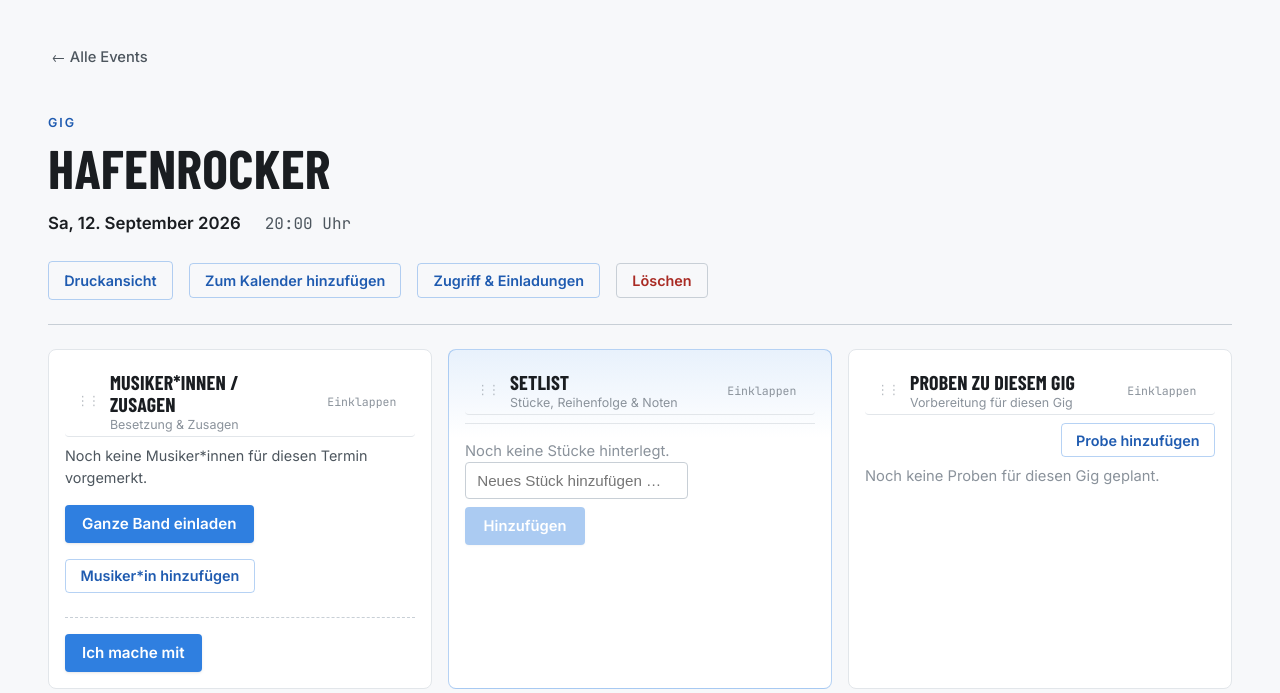
EventDetailComponent › should add a piece via Enter key without submitting the form
Type "Enter-Song" into the field with class "setlist__input".
click(577, 481); type("Enter-Song")  # box x1=465 y1=462 x2=688 y2=499
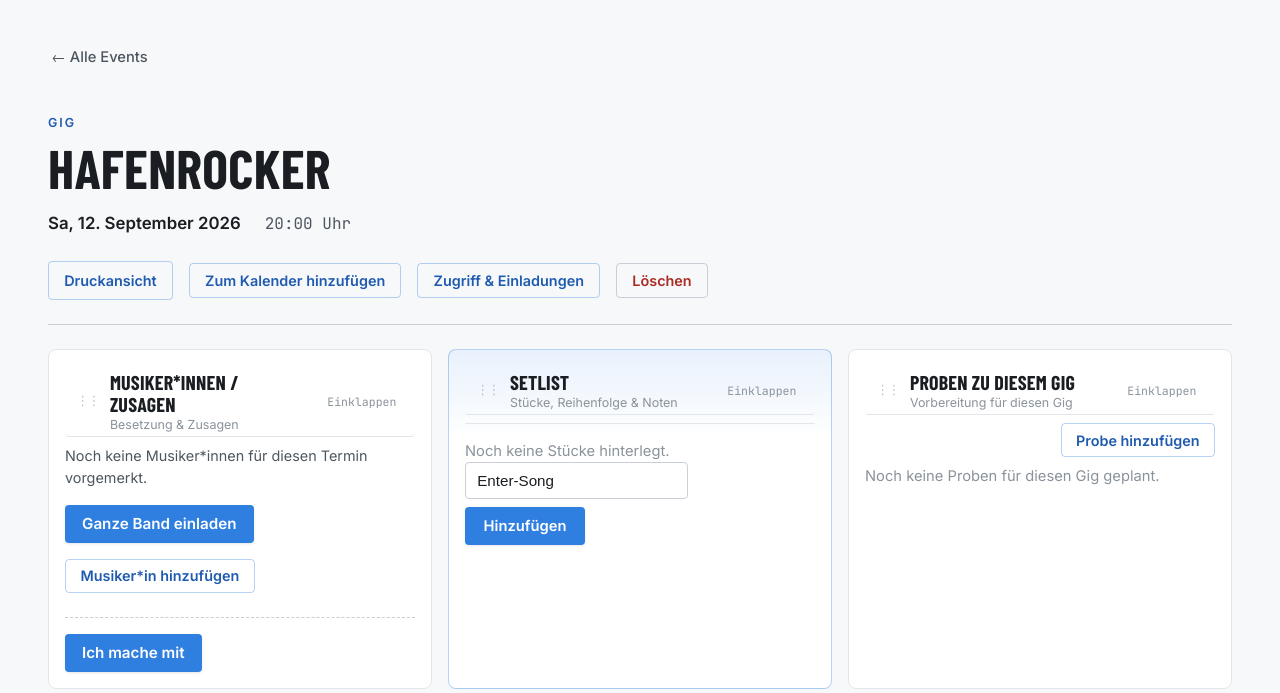
Press Enter in the field with class "setlist__input", box x1=465 y1=462 x2=688 y2=499
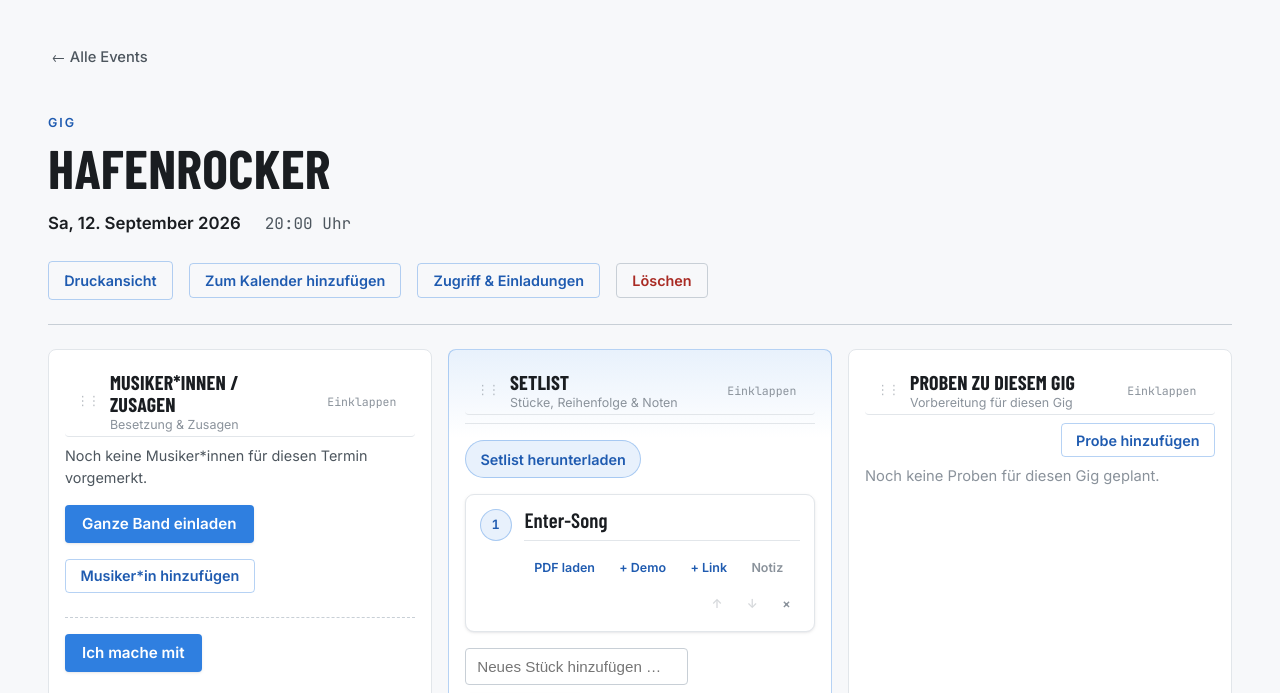
Result: the number of headings with class "entry__title" is 1 at x1=524 y1=507 x2=608 y2=532
Result: the heading with class "entry__title" reads "Enter-Song" at x1=524 y1=507 x2=608 y2=532
